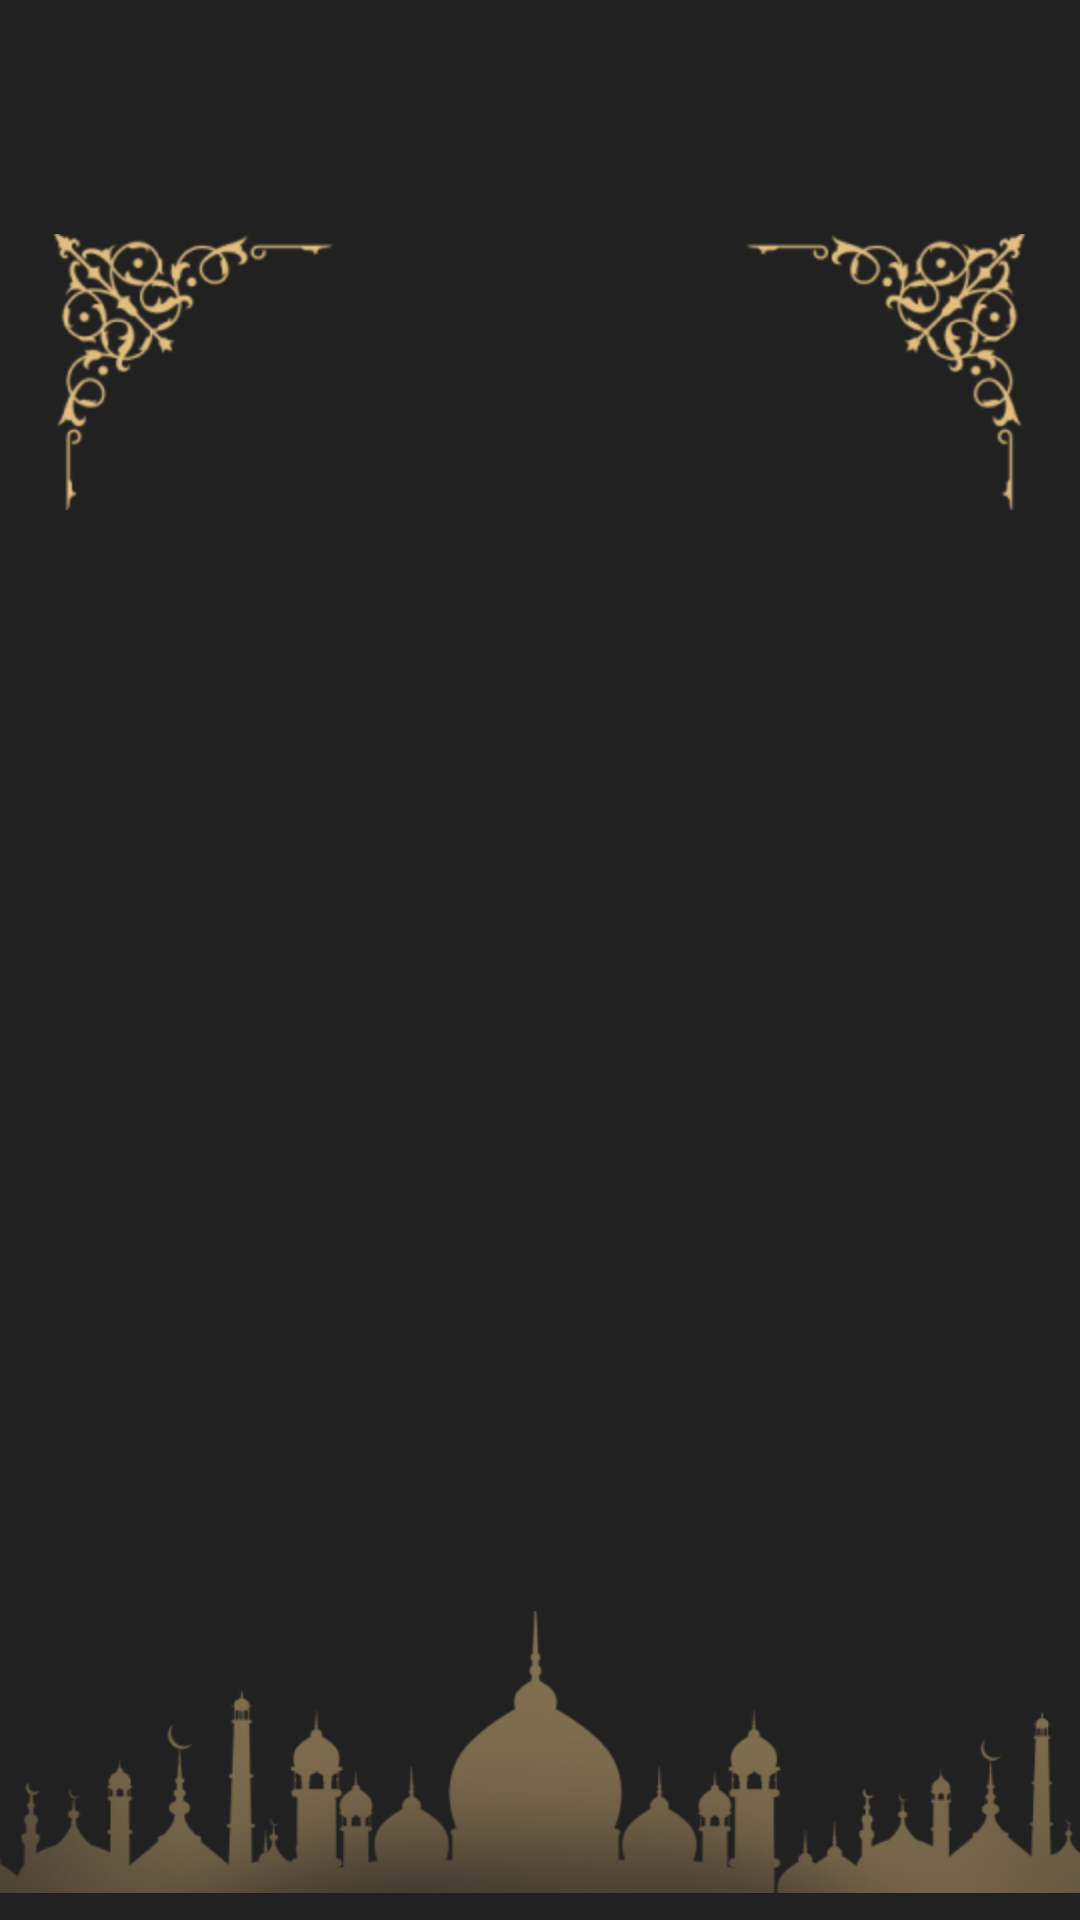

Where icons sit on this 1080w x 1920h app screen, as (x1, y1, x2, y2):
left: (54, 234, 332, 510)
right: (747, 234, 1026, 510)
